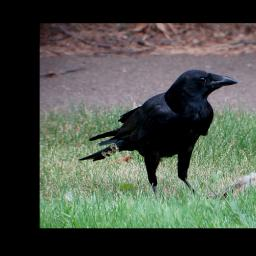Crow: (78, 69, 240, 197)
